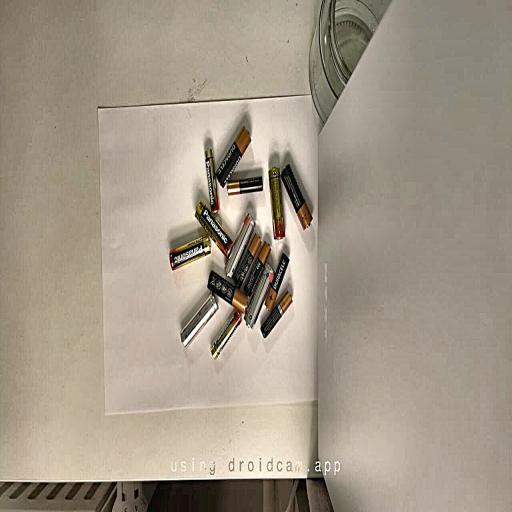DuracellAA: (216, 126, 251, 188), (281, 164, 312, 229), (208, 270, 247, 312)
DuracellAAA: (260, 291, 292, 338), (234, 233, 260, 289), (244, 242, 270, 297), (265, 252, 289, 310), (228, 176, 263, 195)
PanasonicAA: (195, 201, 232, 257), (170, 235, 210, 270), (269, 166, 285, 240)
PanasonicAAA: (211, 309, 242, 358), (205, 149, 219, 212)
RainbowAA: (180, 293, 218, 346), (225, 213, 255, 277), (244, 262, 273, 328)
